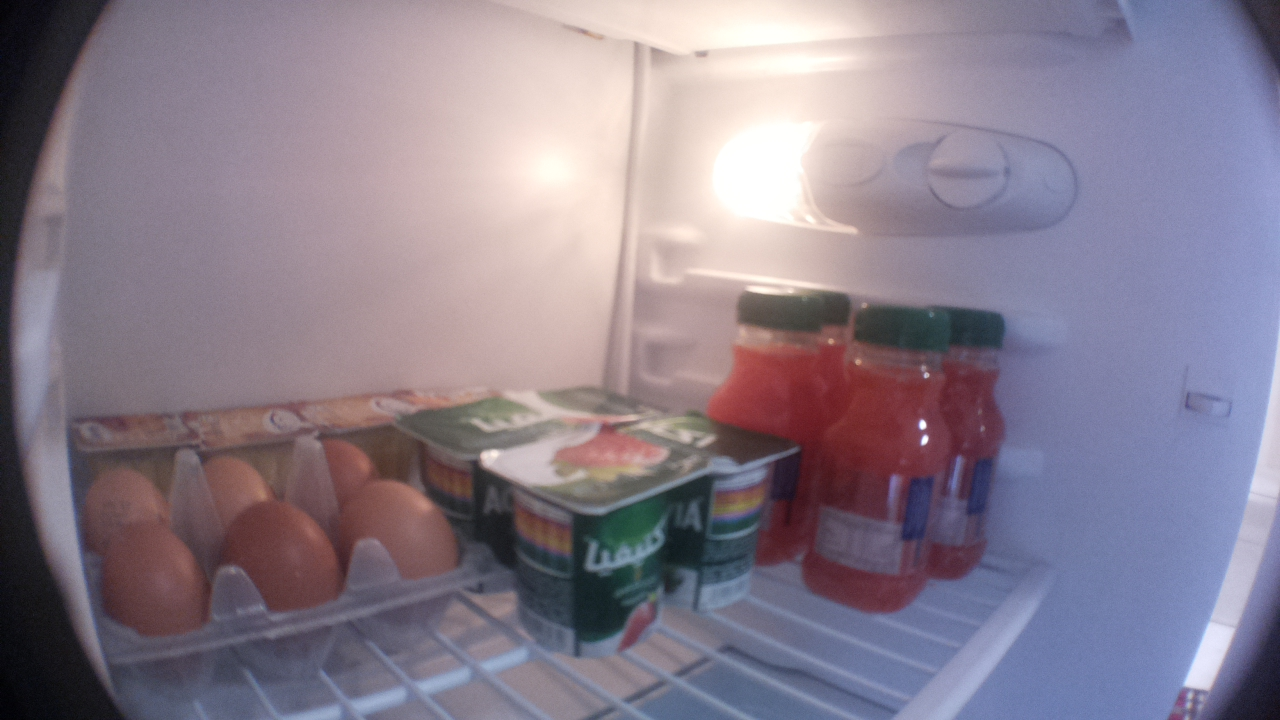caramel: (177, 394, 316, 465), (74, 405, 197, 459), (299, 390, 450, 430)
egg: (340, 474, 476, 664), (217, 505, 345, 682), (91, 530, 220, 692), (294, 440, 394, 536), (187, 462, 283, 541), (82, 473, 174, 549)
juice: (818, 313, 947, 620), (934, 298, 1031, 582), (711, 274, 826, 446), (797, 277, 856, 429)
yoghurt: (509, 439, 676, 667), (634, 416, 780, 627), (408, 398, 512, 522), (539, 378, 660, 430)
